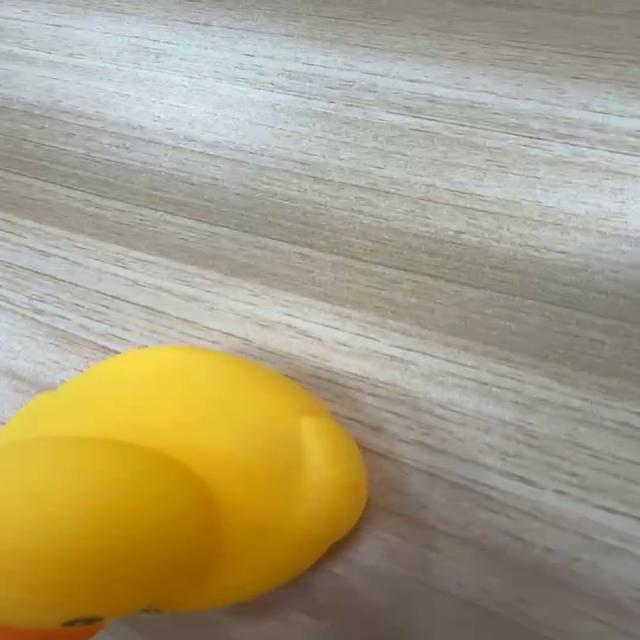yellow_duck: (0, 343, 370, 638)
